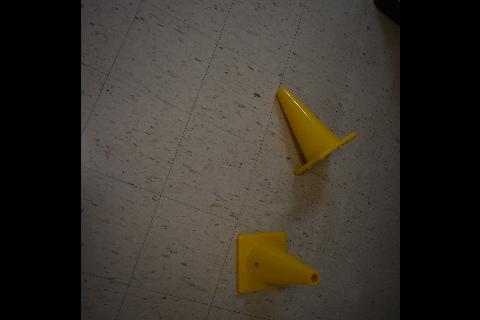cone: (276, 88, 356, 176), (236, 232, 320, 294)
